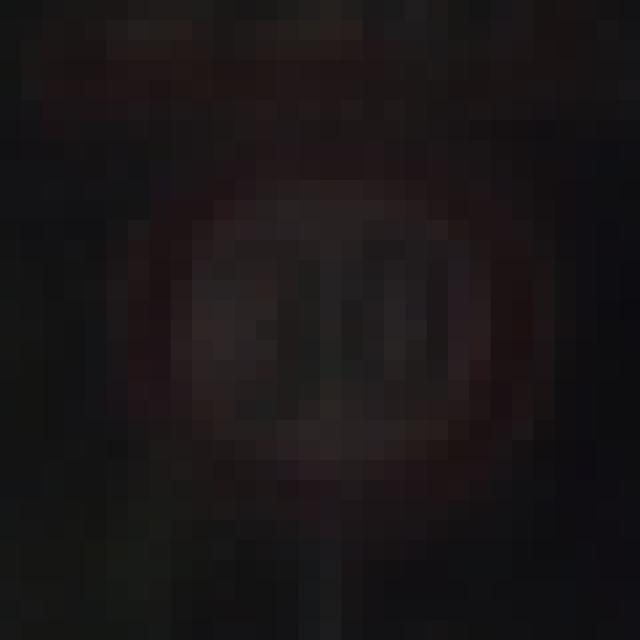Speed Limit -30-: (96, 110, 502, 530)
